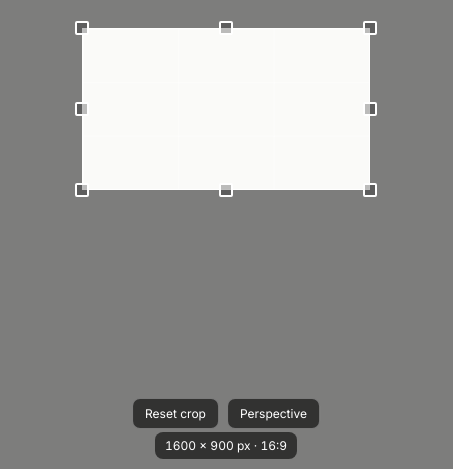
D5-F08: the perspective quad is behind a toggle and really drags › says what the toggle is for, because "Perspective" has no referent of its own
Click the button "Perspective": x=274, y=413 left=227, top=398, right=320, bottom=429
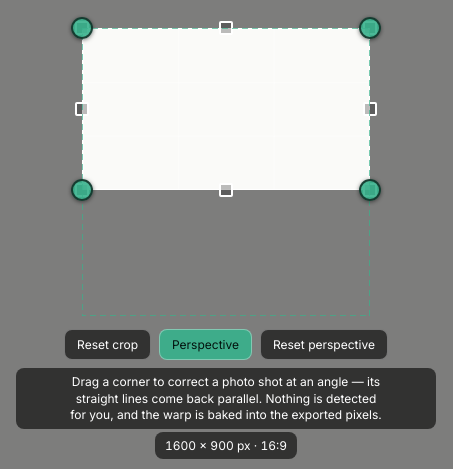
Expected: the text "Drag a corner" is shown, left=70, top=374, right=382, bottom=422
Expected: the text "straight lines come back parallel" is shown, left=70, top=374, right=382, bottom=422
Expected: the text "Nothing is detected for you" is shown, left=70, top=374, right=382, bottom=422
Click the button "Perspective": x=206, y=345 left=159, top=329, right=252, bottom=360
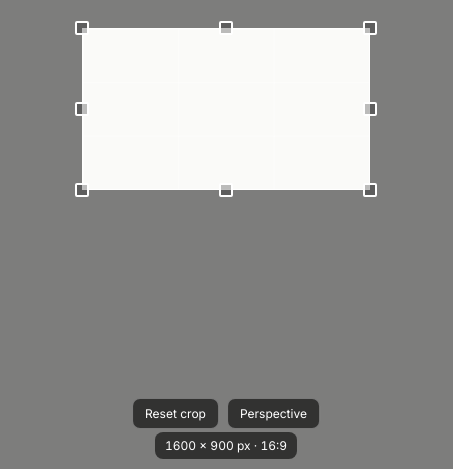
Expected: the text "straight lines come back parallel" is gone
